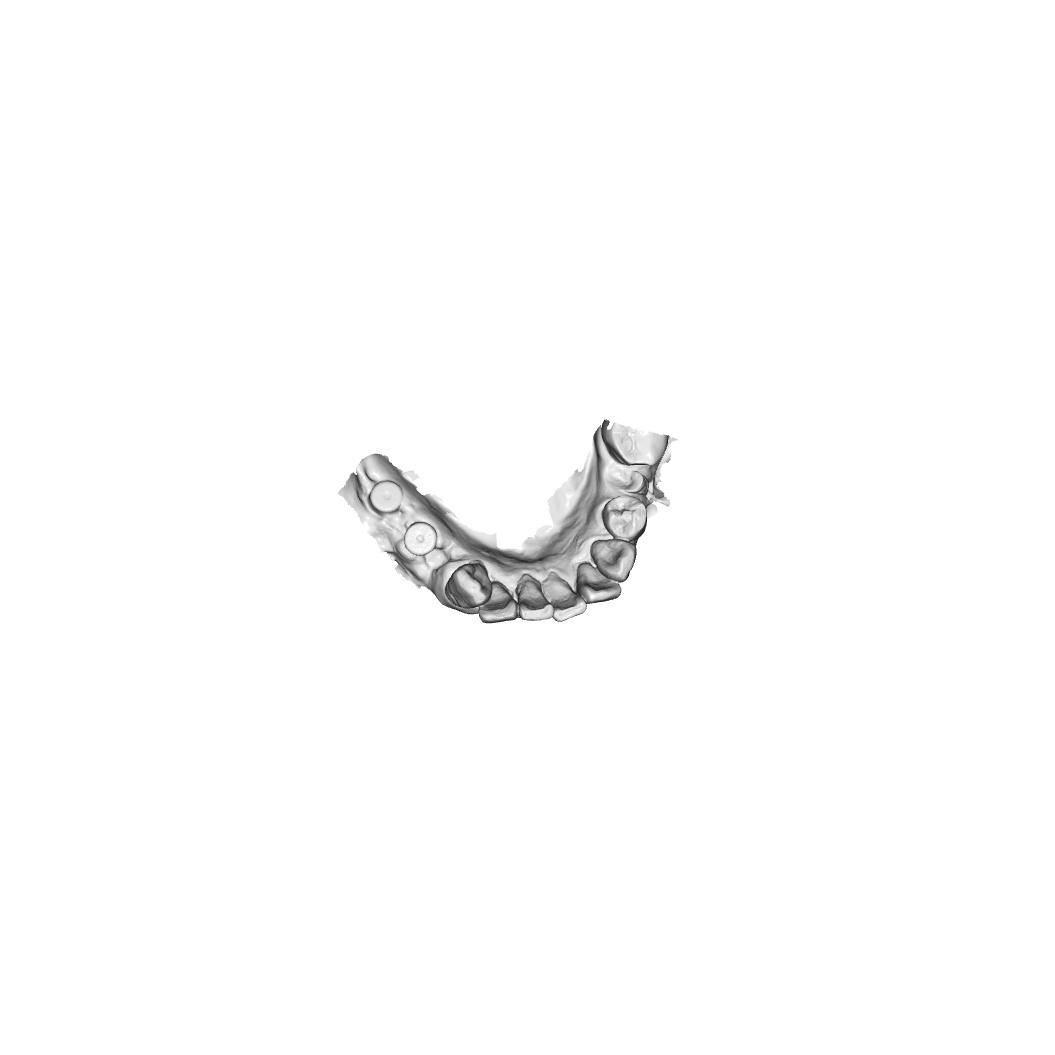canine: (444, 561, 493, 609), (589, 538, 638, 584)
implant: (368, 479, 404, 515), (404, 520, 438, 557)
incisor: (545, 573, 587, 623), (575, 561, 621, 606), (478, 579, 519, 625), (516, 577, 554, 623)
molar: (601, 431, 669, 468)
premolar: (599, 494, 649, 541)
